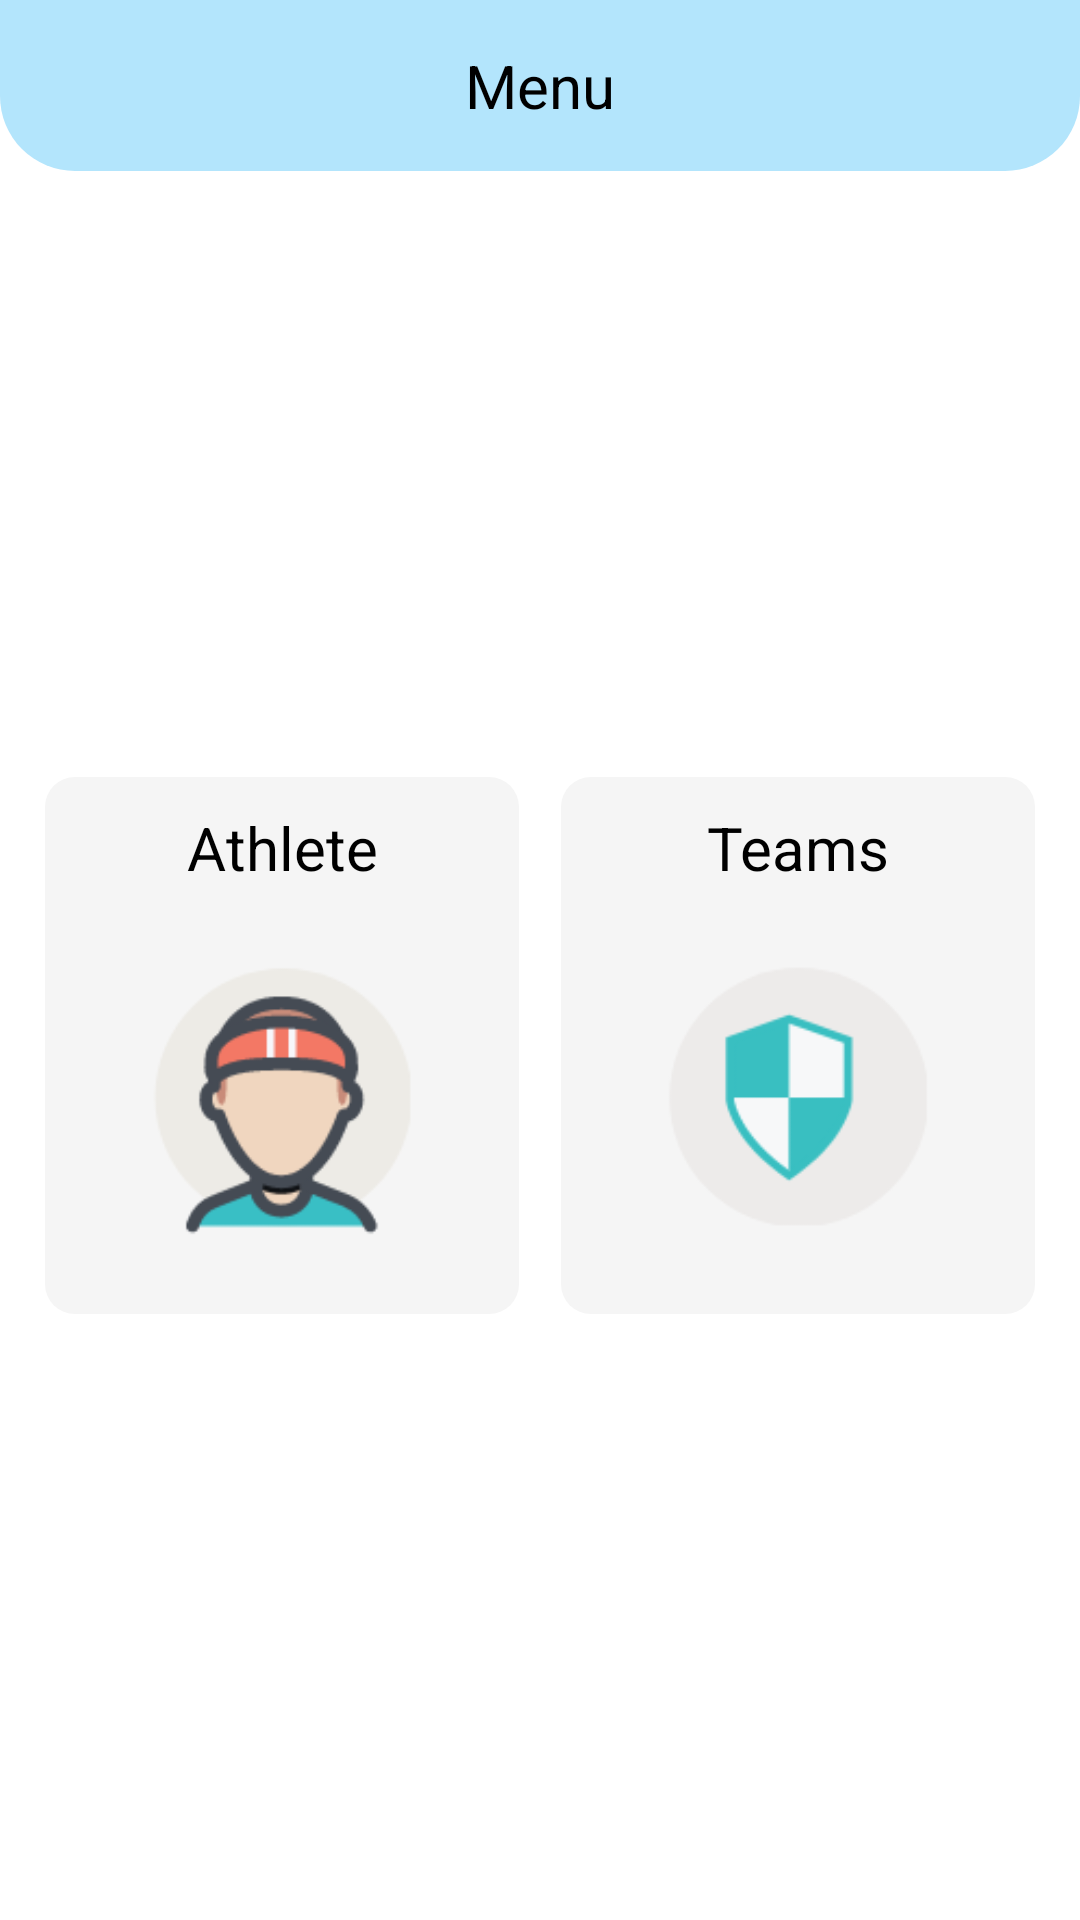

Icon bounding boxes for this 1080×1920 phone screenshot, format [left=x1, top=y1, right=x2, bottom=y2]:
atleta: [left=186, top=996, right=378, bottom=1234]
clube: [left=725, top=1013, right=854, bottom=1181]
